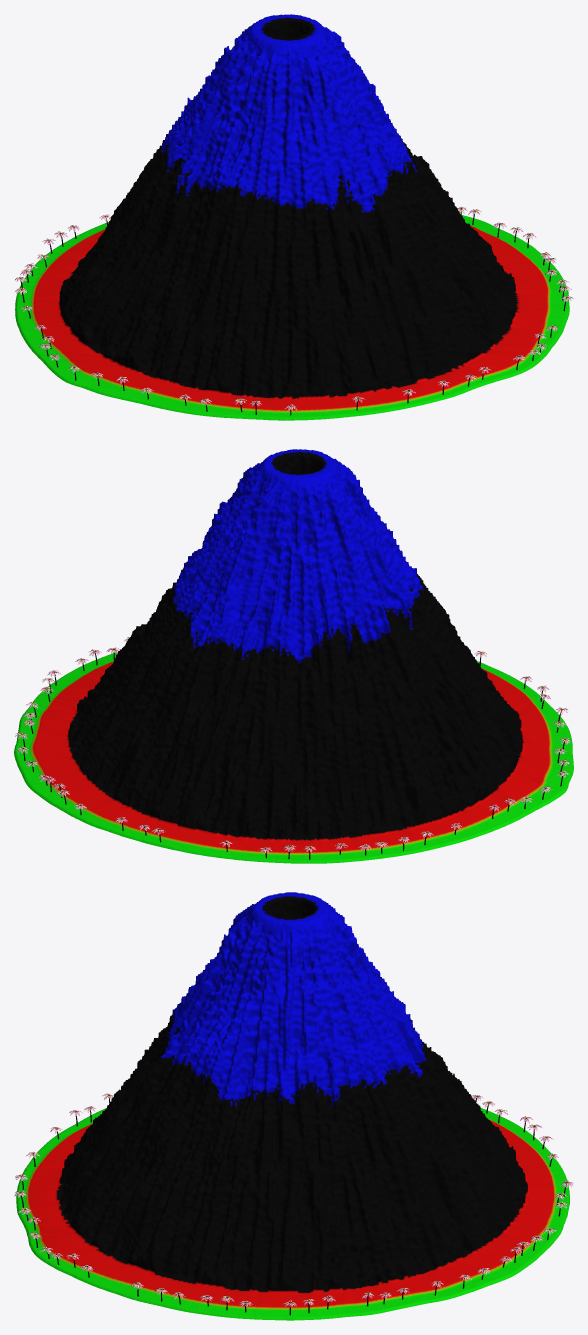
Rendered from Volcano.glb.
3 views of the same model, one above another, from view 1: azimuth 30°, elevation 25°; view 2: azimuth 150°, elevation 25°; view 3: azimuth 270°, elevation 25° (orthographic). The views are drawn at different scales.
Visible parts, largest first — view 1: Volcano; view 2: Volcano; view 3: Volcano.
Boxes of the visible parts, <box> form: Volcano: <box>15,14,573,420</box>; Volcano: <box>14,449,573,863</box>; Volcano: <box>14,892,573,1320</box>.
Size of the model in its own units: 250 by 136 by 239.
